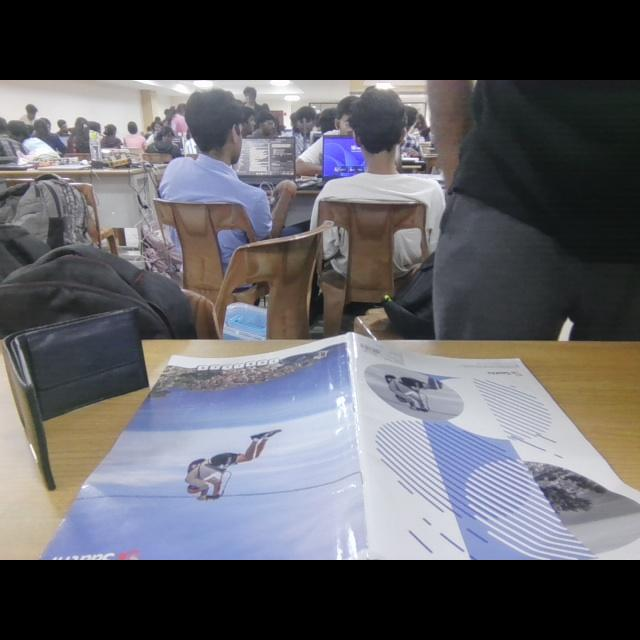wallet: (1, 297, 232, 498)
